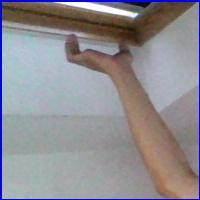space: (57, 27, 146, 85)
